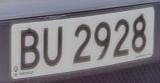2: (71, 17, 95, 68), (113, 15, 131, 61)
8: (131, 12, 149, 58)
9: (92, 16, 113, 65)
B: (15, 26, 43, 72)
U: (42, 23, 66, 72)
